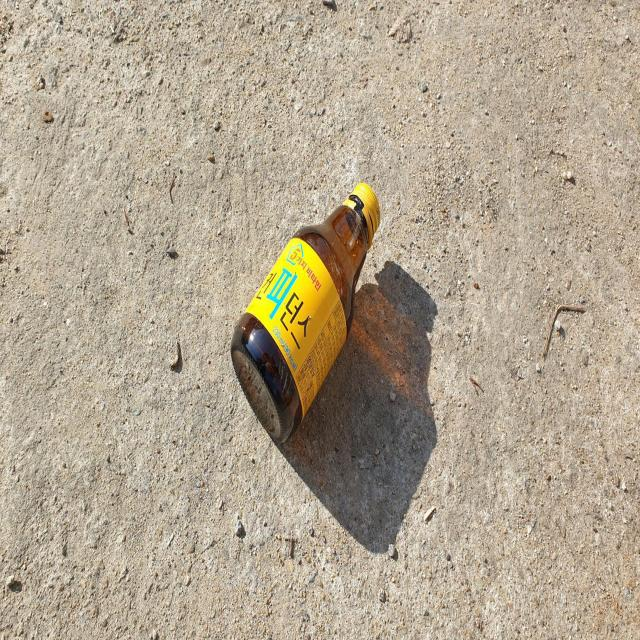glass: (231, 183, 380, 445)
